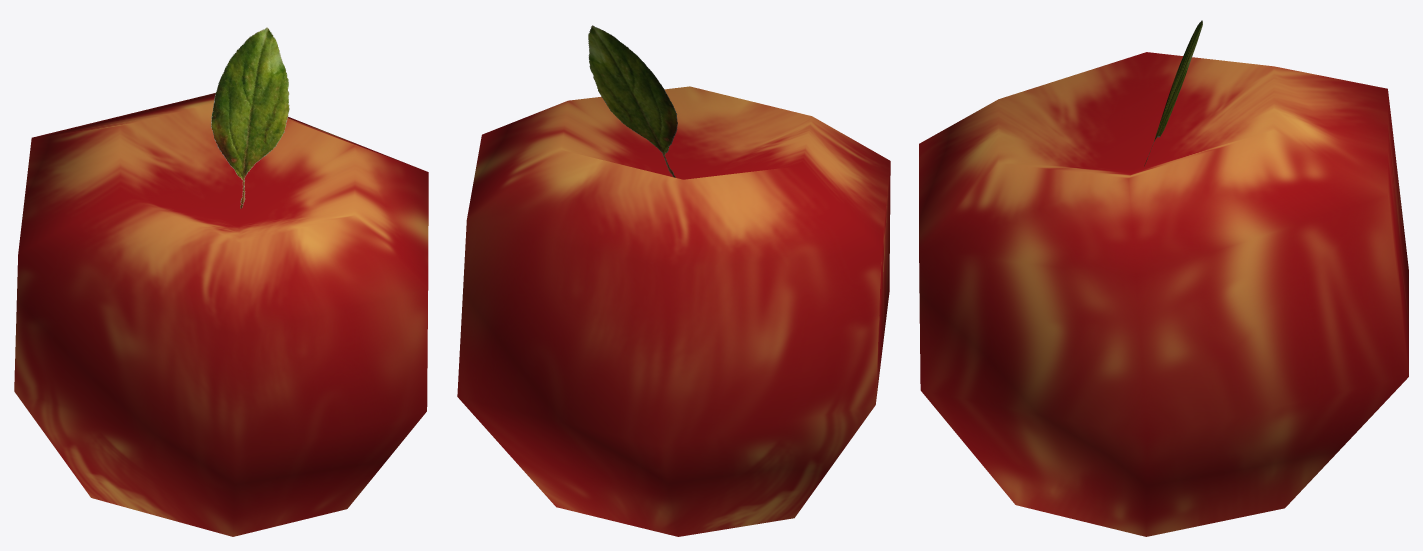
The model's file is apple.fbx.
3 renders of one model, left to right at view 1: azimuth 30°, elevation 25°; view 2: azimuth 150°, elevation 25°; view 3: azimuth 270°, elevation 25°, orthographic. The views are drawn at different scales.
Parts seen in each view (by area): view 1: apple; view 2: apple; view 3: apple.
Part boxes in pixels (x1,y1,x2,y2): apple: (14,27,428,536); apple: (457,25,890,536); apple: (919,20,1408,536).
Size of the model in its own units: 0.619 by 0.6562 by 0.5855.
Materials: 1 (1 with a texture image).
